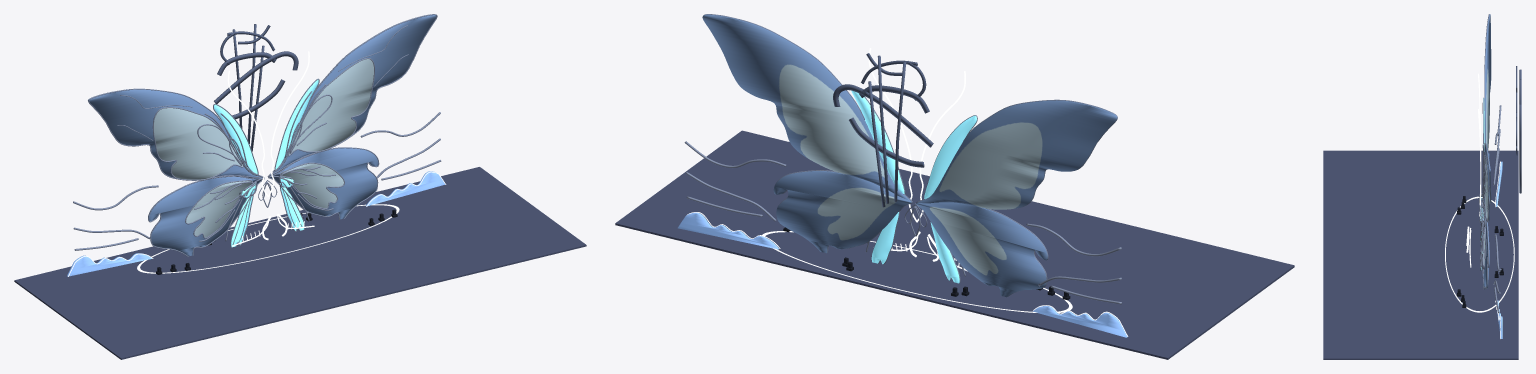
3 renders of one model, left to right at view 1: azimuth 30°, elevation 25°; view 2: azimuth 150°, elevation 25°; view 3: azimuth 270°, elevation 25°, orthographic. The views are drawn at different scales.
Visible parts, largest first — view 1: STAGE_finite_foreground_crop_inferred_boundaries, WING_L_UPPER_finite_outer_shell, WING_R_UPPER_finite_outer_shell, WING_L_LOWER_finite_outer_shell, WING_R_LOWER_finite_outer_shell, SIDE_L_finite_scallop_front, WING_L_INNER_UPPER_finite_shell, SIDE_R_finite_scallop_front, WING_R_INNER_UPPER_finite_shell, VEIN_R_UPPER_outer_boundary, VEIN_L_UPPER_outer_boundary, STAGE_finite_front_pale_band (+6 smaller); view 2: STAGE_finite_foreground_crop_inferred_boundaries, WING_R_UPPER_finite_outer_shell, WING_L_UPPER_finite_outer_shell, WING_R_LOWER_finite_outer_shell, WING_L_LOWER_finite_outer_shell, WING_L_INNER_UPPER_finite_shell, SIDE_R_finite_scallop_front, SIDE_L_finite_scallop_front, WING_R_INNER_UPPER_finite_shell, TOWER_visible_arc_fragment_01, WING_R_PENDANT_finite_shell, STAGE_finite_front_pale_band (+2 smaller); view 3: STAGE_finite_foreground_crop_inferred_boundaries, WING_L_UPPER_finite_outer_shell, STAGE_finite_front_pale_band, WING_R_UPPER_finite_outer_shell, WING_R_LOWER_finite_outer_shell, TOWER_visible_vertical_2, VEIN_R_LOWER_outer_boundary, BODY_spine_-1, VEIN_R_UPPER_outer_boundary.
Boxes of the visible parts, x1,y1,x2,y2 form: STAGE_finite_foreground_crop_inferred_boundaries: [14, 167, 586, 359]; WING_L_UPPER_finite_outer_shell: [88, 89, 262, 179]; WING_R_UPPER_finite_outer_shell: [270, 14, 436, 175]; WING_L_LOWER_finite_outer_shell: [148, 176, 262, 256]; WING_R_LOWER_finite_outer_shell: [270, 148, 378, 219]; SIDE_L_finite_scallop_front: [67, 253, 151, 276]; WING_L_INNER_UPPER_finite_shell: [214, 104, 257, 174]; SIDE_R_finite_scallop_front: [366, 171, 445, 206]; WING_R_INNER_UPPER_finite_shell: [275, 79, 318, 169]; VEIN_R_UPPER_outer_boundary: [271, 14, 437, 176]; VEIN_L_UPPER_outer_boundary: [88, 88, 261, 179]; STAGE_finite_front_pale_band: [137, 204, 399, 273]; STAGE_finite_foreground_crop_inferred_boundaries: [615, 130, 1294, 359]; WING_R_UPPER_finite_outer_shell: [702, 14, 910, 201]; WING_L_UPPER_finite_outer_shell: [917, 100, 1117, 209]; WING_R_LOWER_finite_outer_shell: [773, 170, 911, 253]; WING_L_LOWER_finite_outer_shell: [916, 202, 1047, 297]; WING_L_INNER_UPPER_finite_shell: [924, 115, 976, 199]; SIDE_R_finite_scallop_front: [678, 212, 778, 249]; SIDE_L_finite_scallop_front: [1033, 306, 1127, 337]; WING_R_INNER_UPPER_finite_shell: [851, 90, 904, 194]; TOWER_visible_arc_fragment_01: [833, 84, 933, 147]; WING_R_PENDANT_finite_shell: [871, 212, 898, 264]; STAGE_finite_front_pale_band: [761, 231, 1072, 312]; STAGE_finite_foreground_crop_inferred_boundaries: [1323, 150, 1518, 359]; WING_L_UPPER_finite_outer_shell: [1485, 14, 1491, 151]; STAGE_finite_front_pale_band: [1445, 196, 1514, 312]; WING_R_UPPER_finite_outer_shell: [1484, 143, 1491, 221]; WING_R_LOWER_finite_outer_shell: [1483, 210, 1489, 289]; TOWER_visible_vertical_2: [1519, 104, 1521, 193]; VEIN_R_LOWER_outer_boundary: [1481, 200, 1488, 289]; BODY_spine_-1: [1478, 109, 1481, 216]; VEIN_R_UPPER_outer_boundary: [1483, 143, 1490, 222].
Bounding box in the file's own units: 38 × 16.09 × 15.34.
8 materials, 1 textured.
